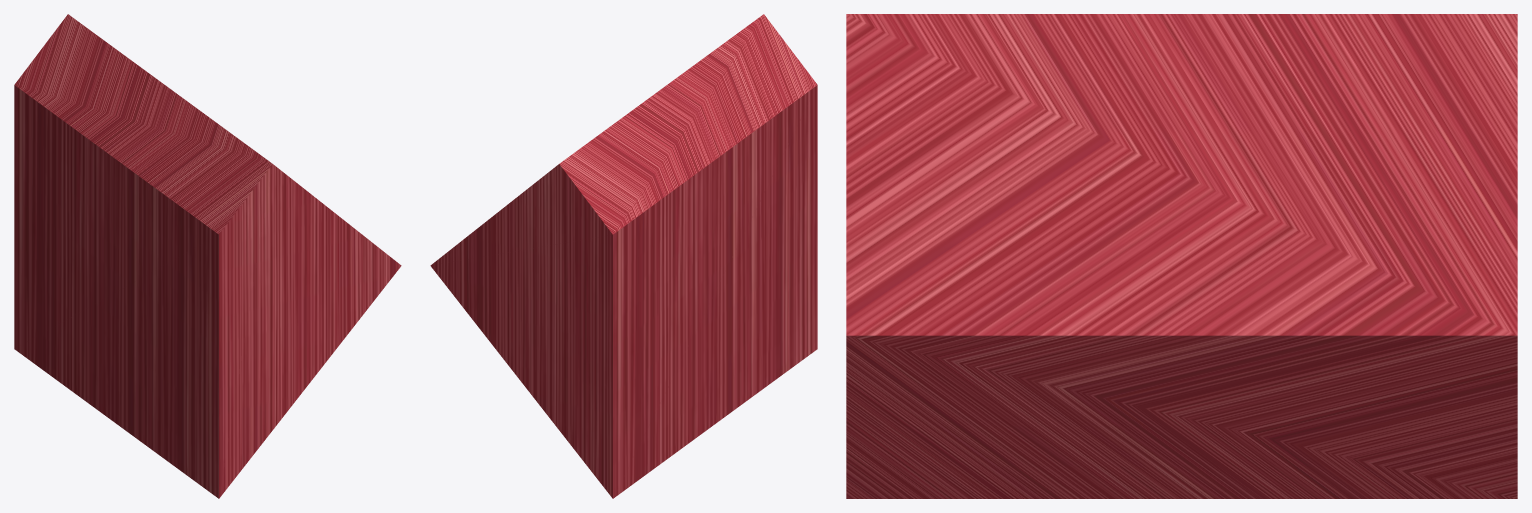
3 renders of one model, left to right at view 1: azimuth 30°, elevation 25°; view 2: azimuth 150°, elevation 25°; view 3: azimuth 270°, elevation 25°, orthographic. The views are drawn at different scales.
Visible parts, largest first — view 1: base3.001; view 2: base3.001; view 3: base3.001.
Boxes of the visible parts, x1=… form: base3.001: x1=14, y1=14, x2=401, y2=498; base3.001: x1=430, y1=14, x2=817, y2=498; base3.001: x1=846, y1=14, x2=1517, y2=498.
Size of the model in its own units: 0.7896 by 1.33 by 1.53.
1 material, 1 textured.
